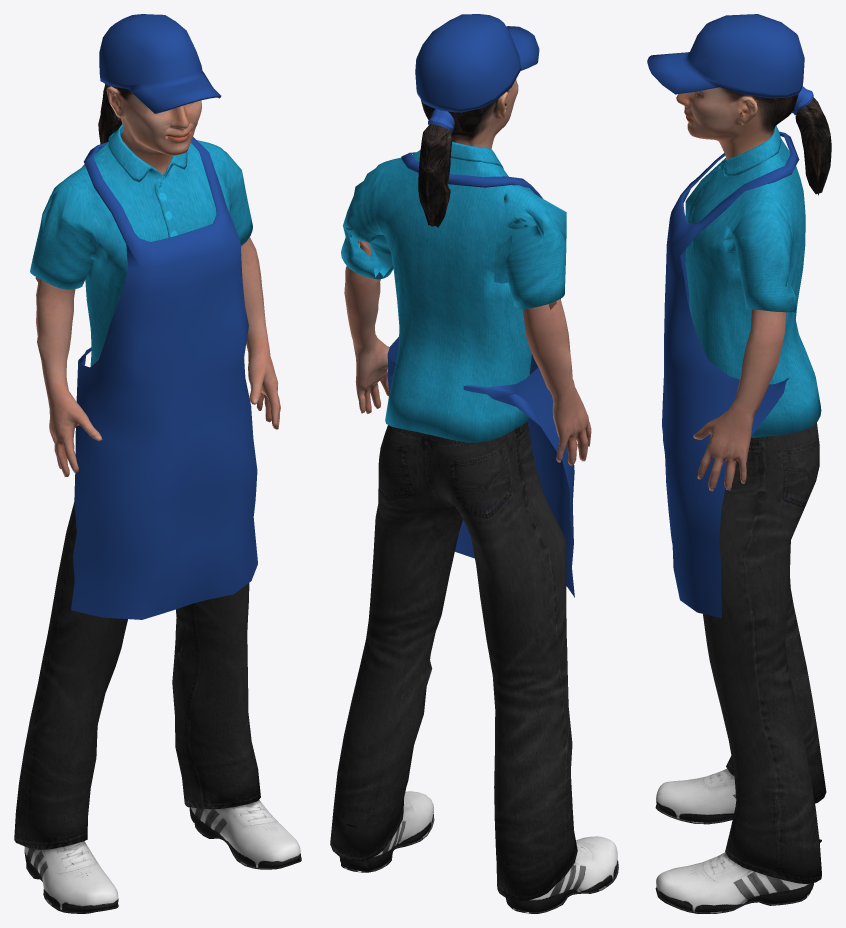
File: dworker.glb
The picture shows the model from 3 angles, left to right: view 1: azimuth 30°, elevation 25°; view 2: azimuth 150°, elevation 25°; view 3: azimuth 270°, elevation 25°; orthographic projection.
Parts seen in each view (by area): view 1: Man, Dress, Cap; view 2: Man, Cap, Dress; view 3: Man, Dress, Cap.
Boxes of the visible parts, box(x1,y1,x2,y2) form: Man: box(14, 83, 301, 913); Dress: box(71, 137, 257, 619); Cap: box(99, 14, 221, 113); Man: box(330, 79, 618, 913); Cap: box(415, 14, 539, 112); Dress: box(387, 152, 574, 597); Man: box(655, 86, 831, 913); Dress: box(662, 131, 799, 618); Cap: box(647, 14, 804, 98).
Size of the model in its own units: 0.5017 by 1.7 by 0.3391.
3 materials, 2 textured.
